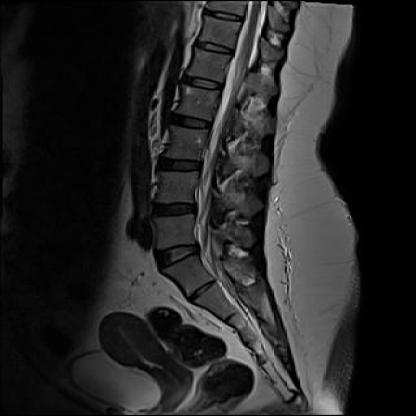Degenerative Disc Diseaserotation: (151, 242, 206, 270), (147, 196, 201, 221)
Disc Relaxationrotation: (150, 241, 205, 271)
